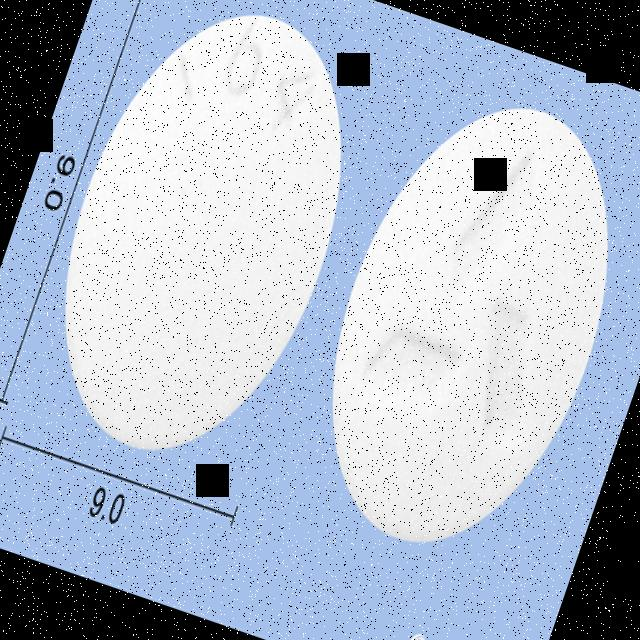Rulid Tab: (11, 0, 396, 484), (279, 70, 640, 579)
